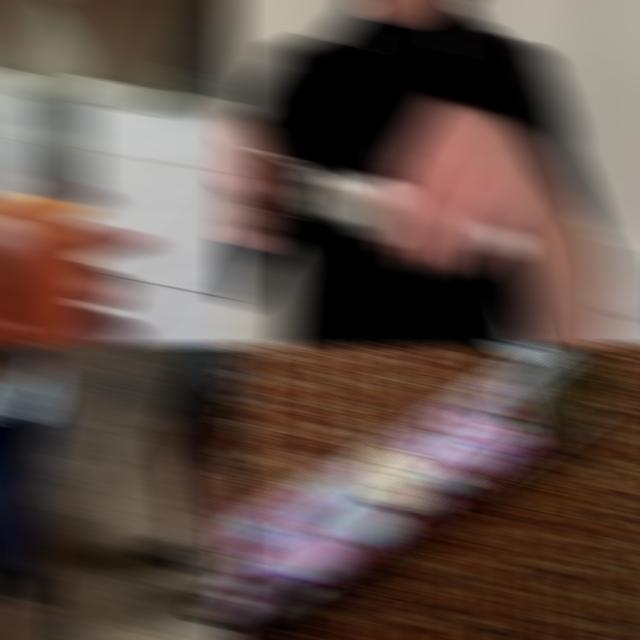Knife: (3, 0, 108, 346)
Knife_Handle: (222, 81, 524, 278)
